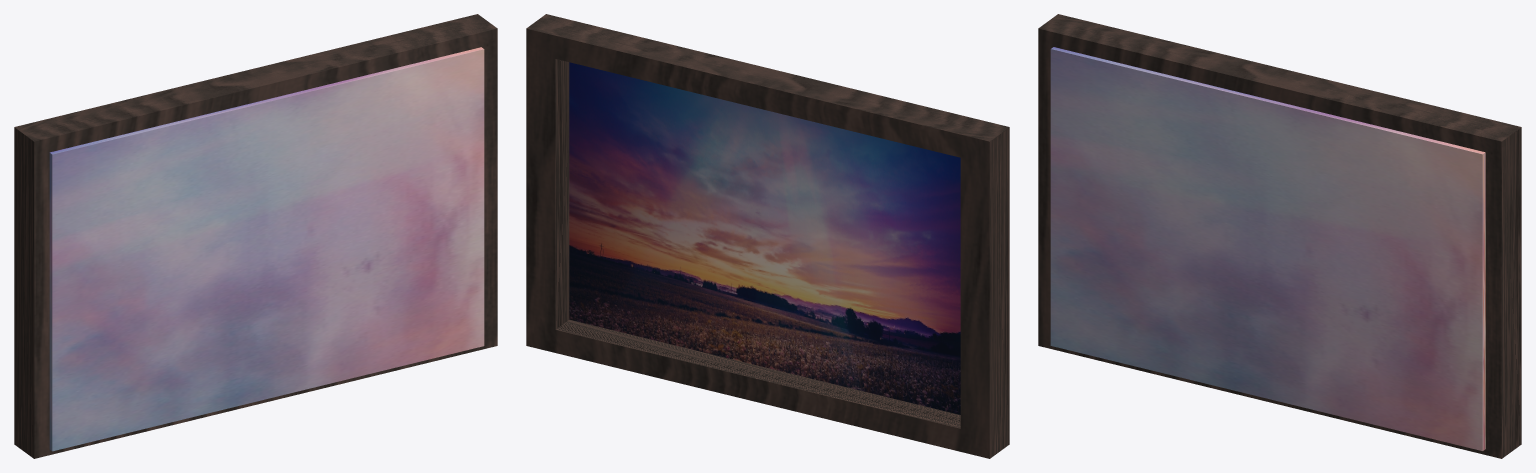
The picture shows the model from 3 angles, left to right: view 1: azimuth 30°, elevation 25°; view 2: azimuth 150°, elevation 25°; view 3: azimuth 330°, elevation 25°; orthographic projection.
Visible parts, largest first — view 1: 액자틀; view 2: 액자틀; view 3: 액자틀.
Boxes of the visible parts, x1,y1,x2,y2 form: 액자틀: (14, 14, 497, 458); 액자틀: (526, 14, 1009, 458); 액자틀: (1038, 14, 1521, 458).
Size of the model in its own units: 246 by 161 by 20.92.
Materials: 2 (2 with a texture image).
